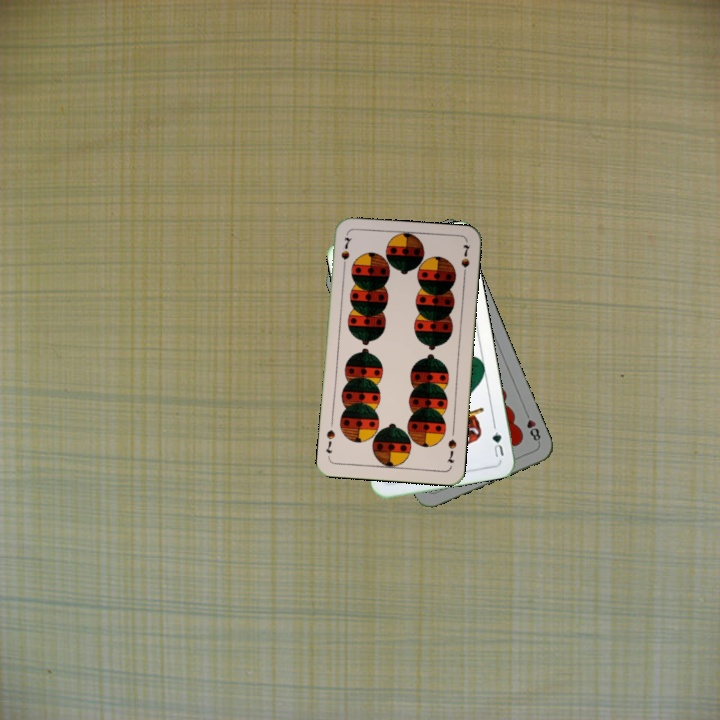GU: (488, 421, 506, 460)
H8: (521, 407, 543, 445)
S7: (337, 233, 354, 272), (443, 435, 459, 466)
